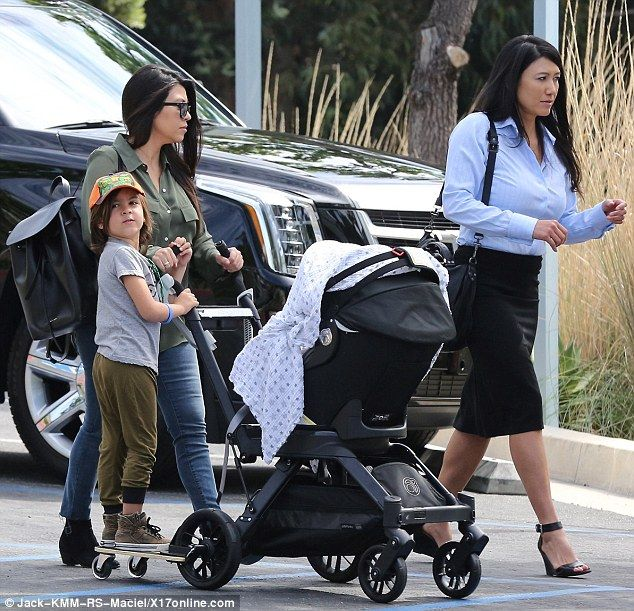Person: (443, 33, 627, 495), (86, 173, 192, 549), (82, 52, 208, 173)
